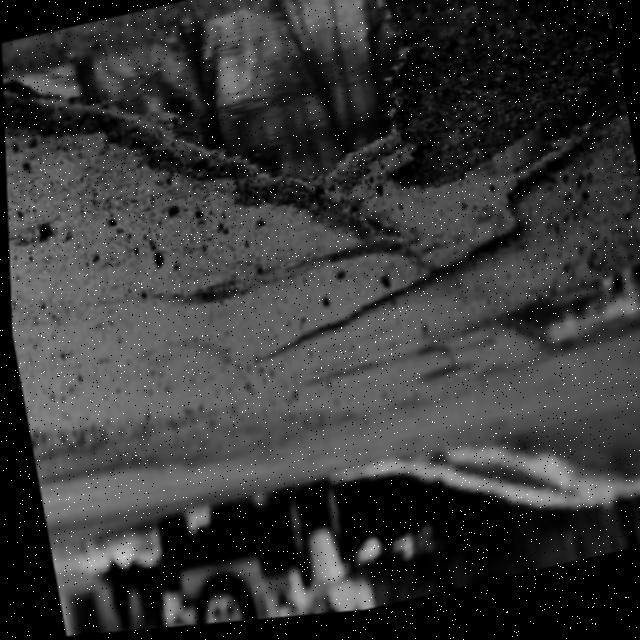pothole: (0, 0, 447, 298), (348, 68, 640, 308), (485, 264, 640, 378)
